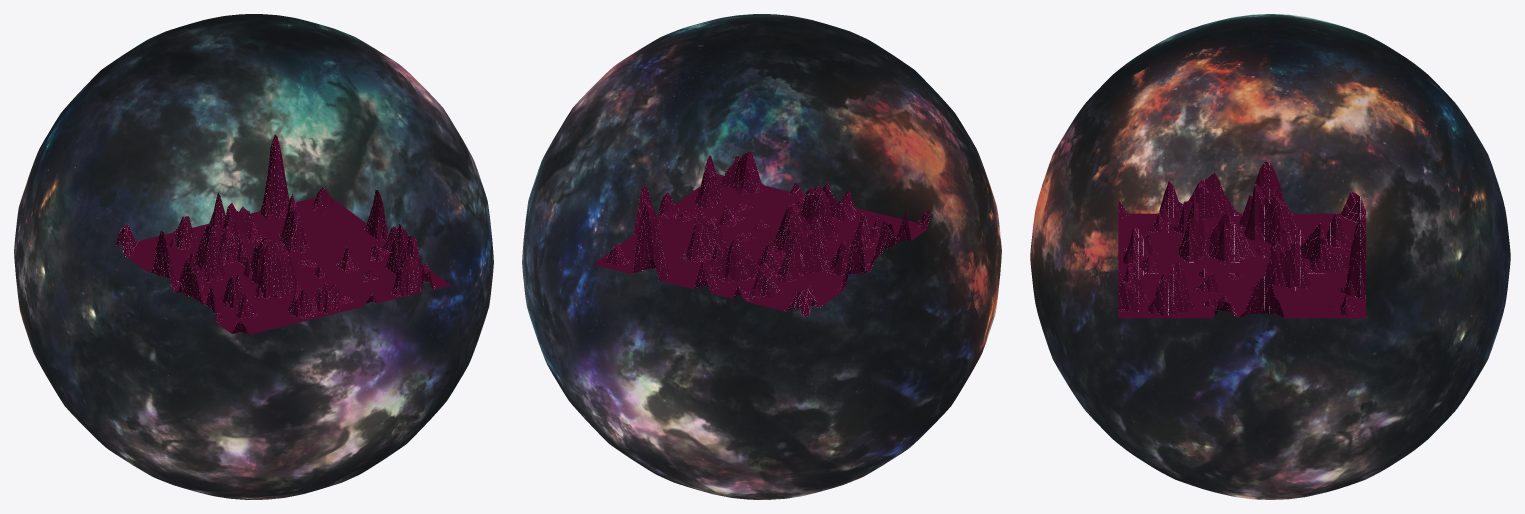
The model's file is map1.gltf.
The picture shows the model from 3 angles, left to right: view 1: azimuth 30°, elevation 25°; view 2: azimuth 150°, elevation 25°; view 3: azimuth 270°, elevation 25°; orthographic projection.
Parts seen in each view (by area): view 1: Sphere, 014, 016, 008, 013, 005, 003, 004, 002, 015, 001, 011 (+5 smaller); view 2: Sphere, 008, 002, 016, 003, 011, 004, 009, 001, 010, 006, 015 (+5 smaller); view 3: Sphere, 016, 004, 011, 007, 013, 006, 014, 009, 005, 008, 012 (+5 smaller).
Part boxes in pixels (bbox=[...]): Sphere: bbox=[14, 14, 493, 499]; 014: bbox=[254, 255, 341, 324]; 016: bbox=[362, 223, 450, 299]; 008: bbox=[143, 225, 225, 291]; 013: bbox=[201, 274, 288, 334]; 005: bbox=[303, 189, 387, 252]; 003: bbox=[220, 142, 285, 243]; 004: bbox=[271, 134, 357, 230]; 002: bbox=[166, 192, 247, 255]; 015: bbox=[307, 273, 393, 311]; 001: bbox=[113, 224, 195, 269]; 011: bbox=[226, 236, 305, 298]; Sphere: bbox=[522, 14, 1001, 499]; 008: bbox=[785, 214, 867, 294]; 002: bbox=[702, 239, 784, 303]; 016: bbox=[684, 152, 773, 211]; 003: bbox=[650, 208, 724, 288]; 011: bbox=[763, 186, 842, 250]; 004: bbox=[593, 202, 679, 273]; 009: bbox=[657, 168, 740, 229]; 001: bbox=[755, 277, 837, 316]; 010: bbox=[720, 205, 780, 246]; 006: bbox=[681, 211, 762, 262]; 015: bbox=[739, 182, 805, 223]; Sphere: bbox=[1030, 14, 1510, 499]; 016: bbox=[1118, 262, 1183, 318]; 004: bbox=[1305, 219, 1365, 318]; 011: bbox=[1189, 200, 1244, 264]; 007: bbox=[1244, 196, 1305, 264]; 013: bbox=[1118, 180, 1188, 239]; 006: bbox=[1244, 240, 1305, 290]; 014: bbox=[1118, 215, 1188, 264]; 009: bbox=[1184, 273, 1244, 318]; 005: bbox=[1244, 277, 1305, 318]; 008: bbox=[1244, 161, 1305, 239]; 012: bbox=[1189, 172, 1244, 238].
Bounding box in the file's own units: 571 × 578 × 571.
Materials: 3 (1 with a texture image).
